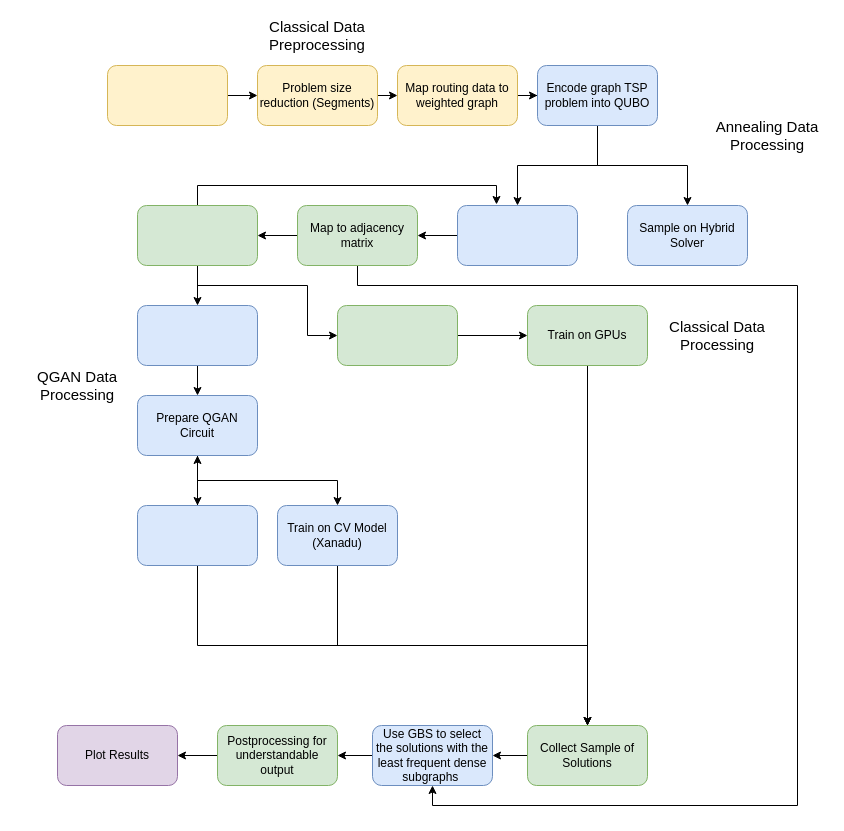
The diagram is 844 pixels wide and 831 high, and some of its shapes have lost their labels. The shapes that lost their labels are listed below. From the top down, each one's centre as x and y in pixels, then its label:
At point (167, 95): "Flight Schedule Dataset".
At point (197, 235): "Compiling dataset of feasible solutions".
At point (517, 235): "Sample on Annealing Solver".
At point (197, 335): "Map graph into Qubits/Qumodes".
At point (397, 335): "Prepare Classical GAN".
At point (197, 535): "Train on Discrete Gate Model (IBM)".
